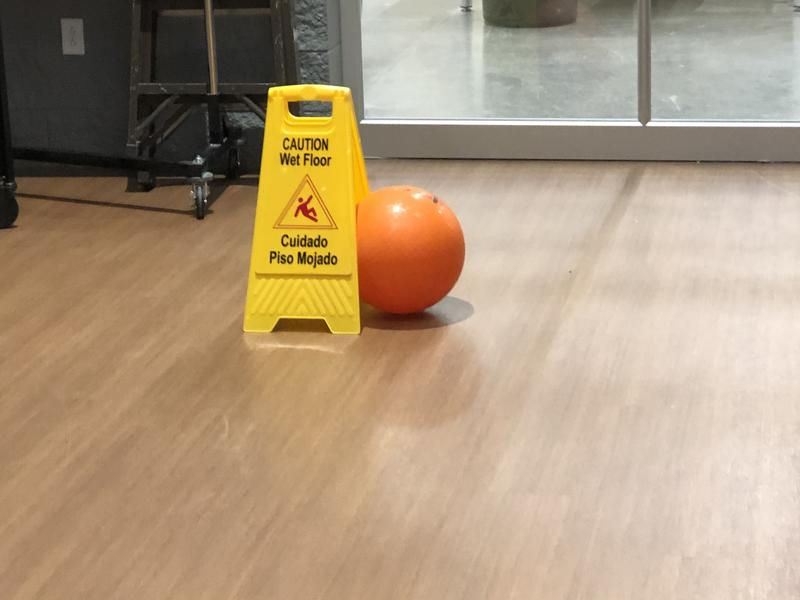ball: (356, 186, 463, 321)
